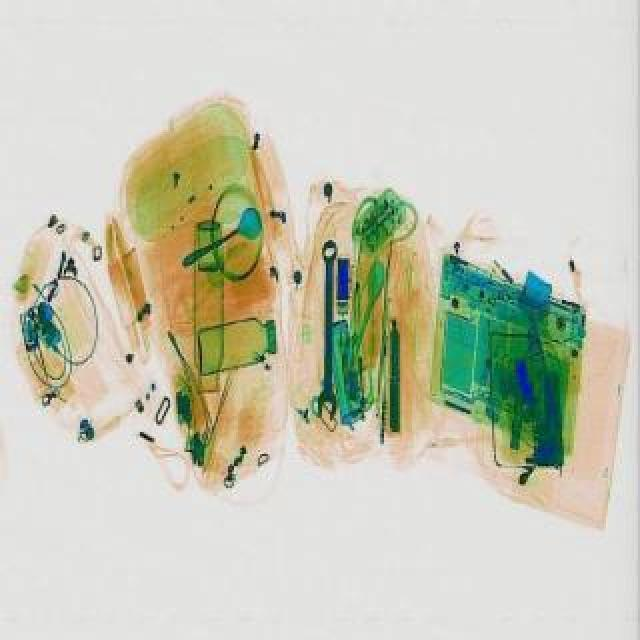scissors: (320, 240, 340, 422)
